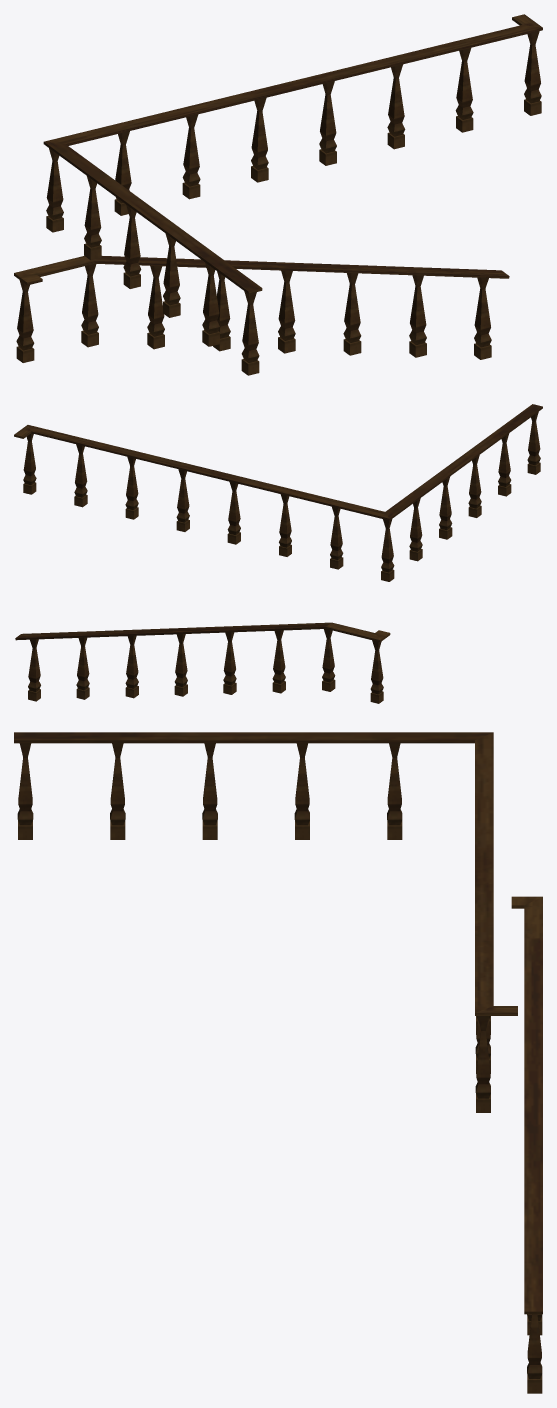
Rendered from perila.fbx.
3 renders of one model, top to bottom at view 1: azimuth 30°, elevation 25°; view 2: azimuth 150°, elevation 25°; view 3: azimuth 270°, elevation 25°, orthographic. The views are drawn at different scales.
Visible parts, largest first — view 1: Cube.003; view 2: Cube.003; view 3: Cube.003.
Part boxes in pixels (x1=…): Cube.003: x1=14, y1=14, x2=542, y2=375; Cube.003: x1=14, y1=404, x2=542, y2=703; Cube.003: x1=14, y1=732, x2=542, y2=1393.
Bounding box in the file's own units: 620 × 402 × 485.
1 material, 1 textured.
